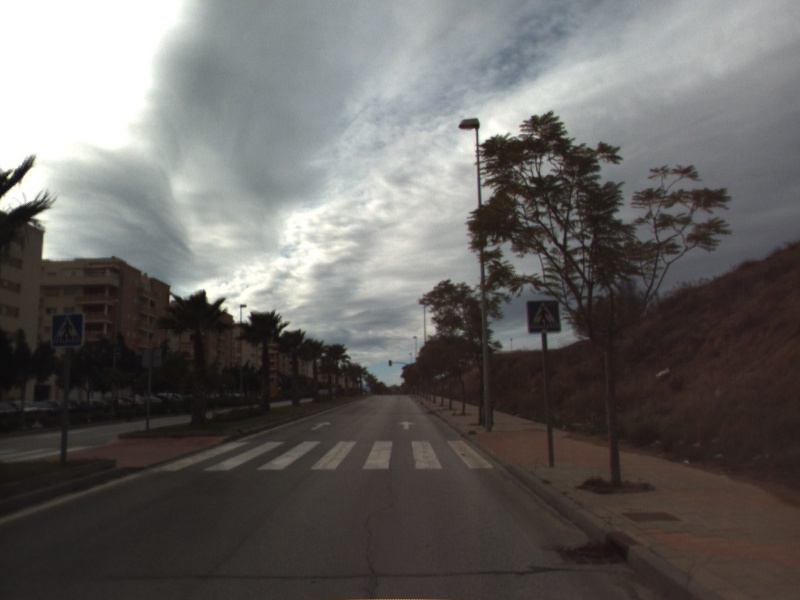STRAIGHT: (309, 419, 334, 432), (397, 419, 417, 431)
